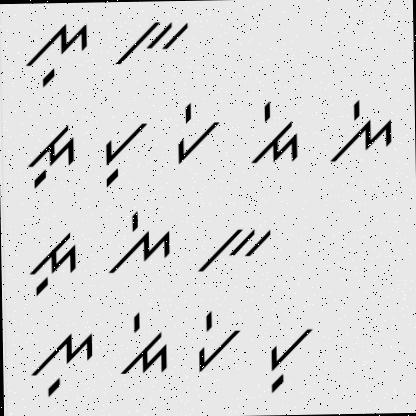de: (243, 95, 300, 173), (117, 308, 169, 378)
du: (18, 230, 88, 302), (21, 115, 79, 186)
ne: (322, 95, 399, 168), (101, 207, 173, 275)
nu: (23, 322, 96, 402), (22, 12, 94, 87)
pe: (166, 100, 221, 171), (189, 307, 242, 372)
pu: (257, 318, 316, 393), (95, 116, 150, 186)
